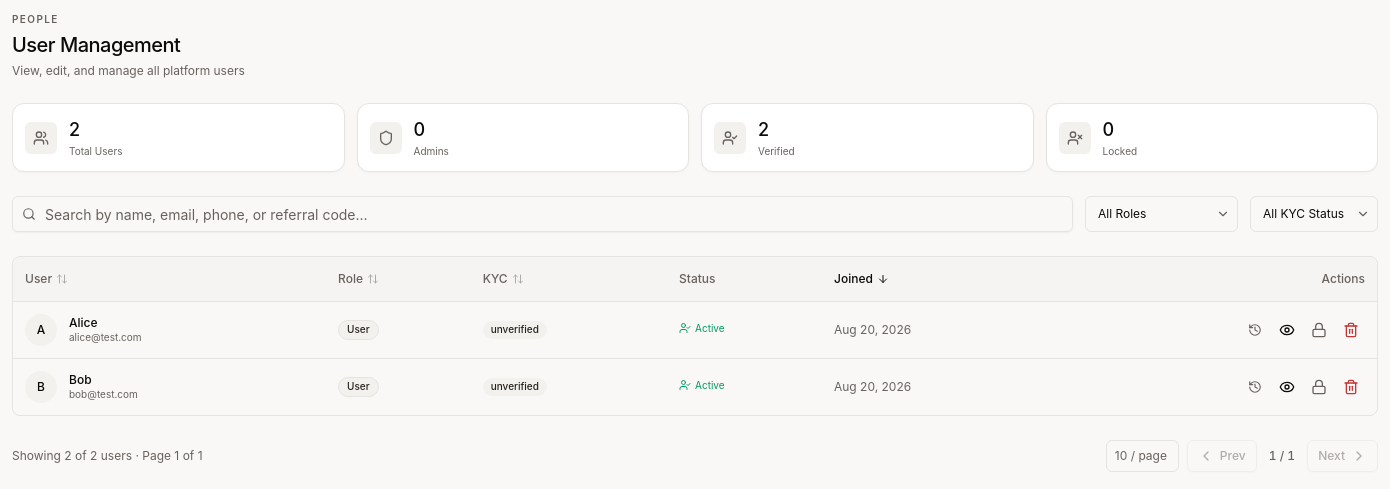
Test: AdminUsers Page › Search › filters users by email
Type "bob@test" into the field with placeholder "Search by name, email, phone, or referral code...".
click(542, 214); type("bob@test")  # box [12, 196, 1073, 232]
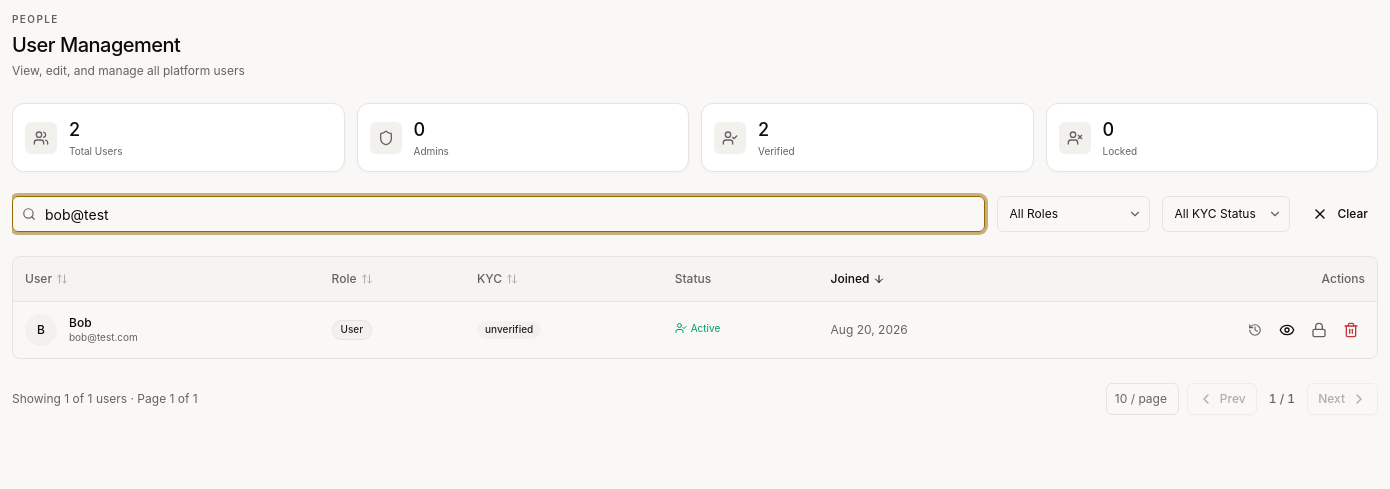
Expected: the text "Bob" is shown, [69, 315, 92, 330]
Result: the text "Alice" is gone
